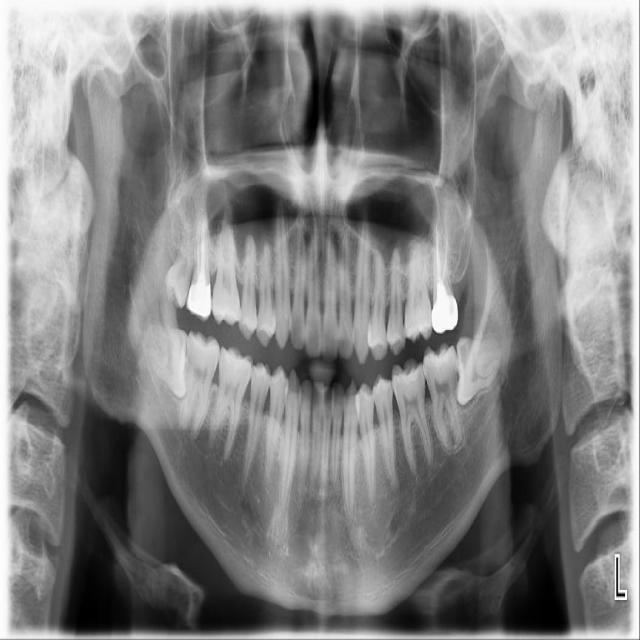3M ESPE Implant: (160, 200, 202, 311)
52: (431, 289, 459, 335), (185, 281, 212, 321)
73: (430, 212, 452, 295), (192, 214, 210, 281), (599, 550, 602, 561)
BioHorizons Implant: (431, 211, 458, 334)
Biomet 3i Implant: (455, 335, 503, 405)
Blue Sky Bio Implant: (421, 341, 464, 453)
Caries: (185, 211, 216, 323)
Implant: (181, 331, 221, 435)
Keystone Dental Implant: (142, 320, 190, 397)
